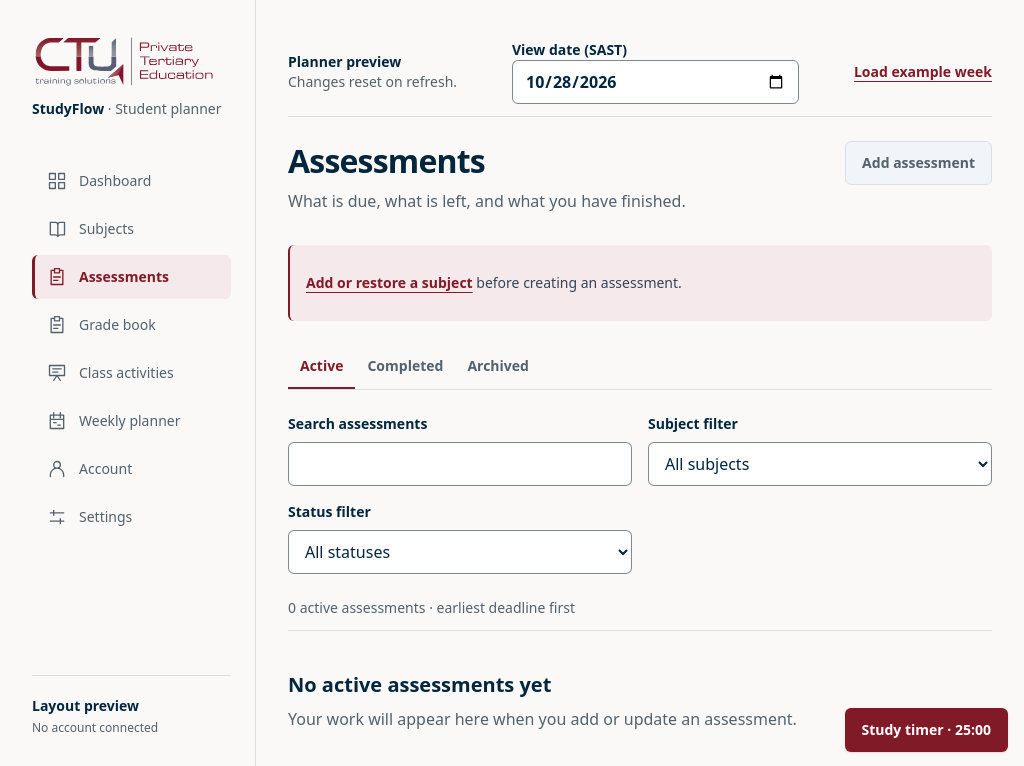
it: shared starter navigation › opens the linked assessment when planning time from the assessment list
Click the button "Load example week": {"x": 923, "y": 72} 854,50 -> 992,94
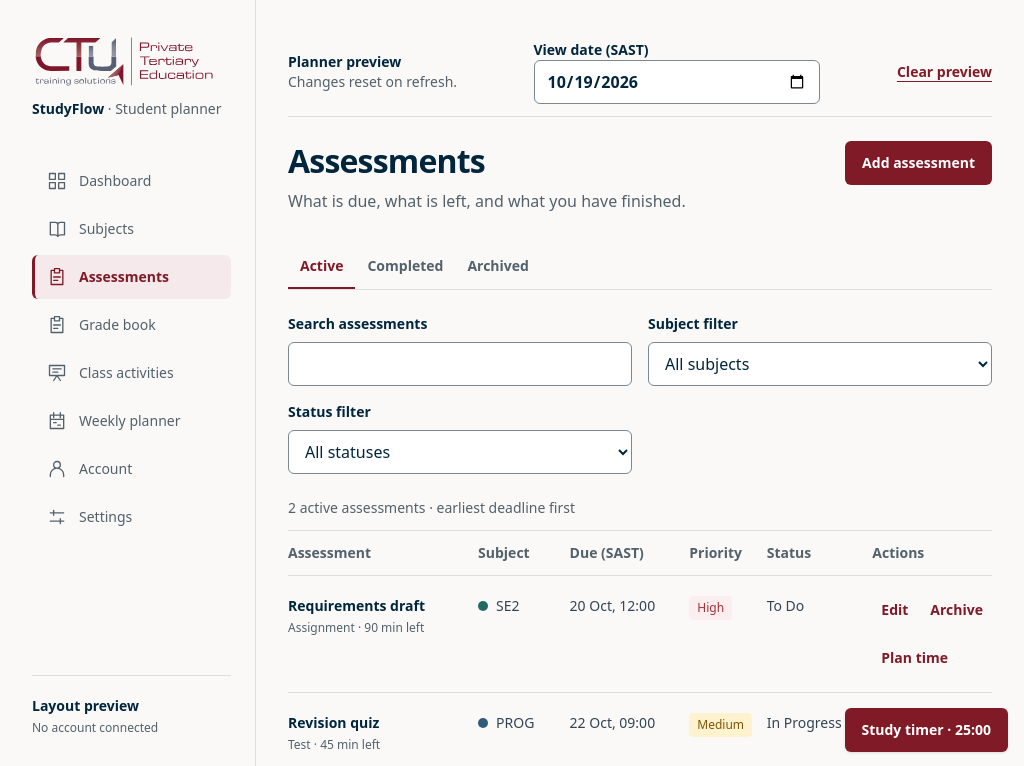
Click the link "Plan time" below "20 Oct, 12:00": {"x": 915, "y": 658} 881,648 -> 948,667
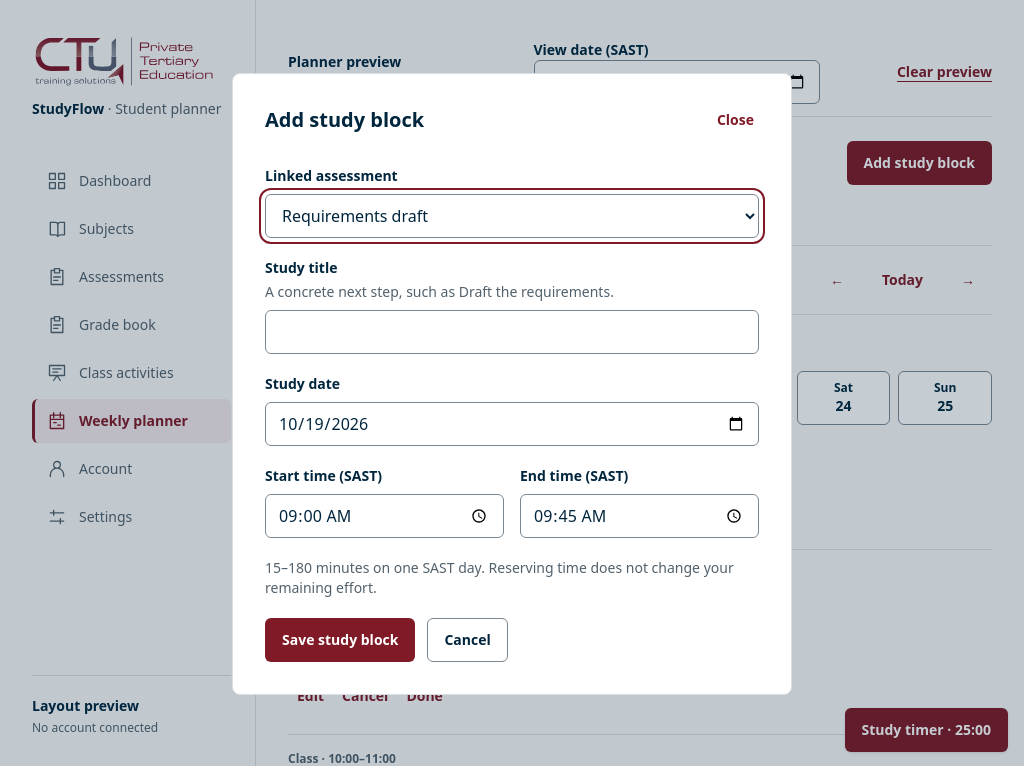
Check: the dialog "Add study block" is shown, box 232,73 -> 792,695
Check: the dropdown labelled "Linked assessment" shows "Requirements draft", box 265,194 -> 759,238
Click the button "Cancel": {"x": 468, "y": 640} 427,618 -> 508,662
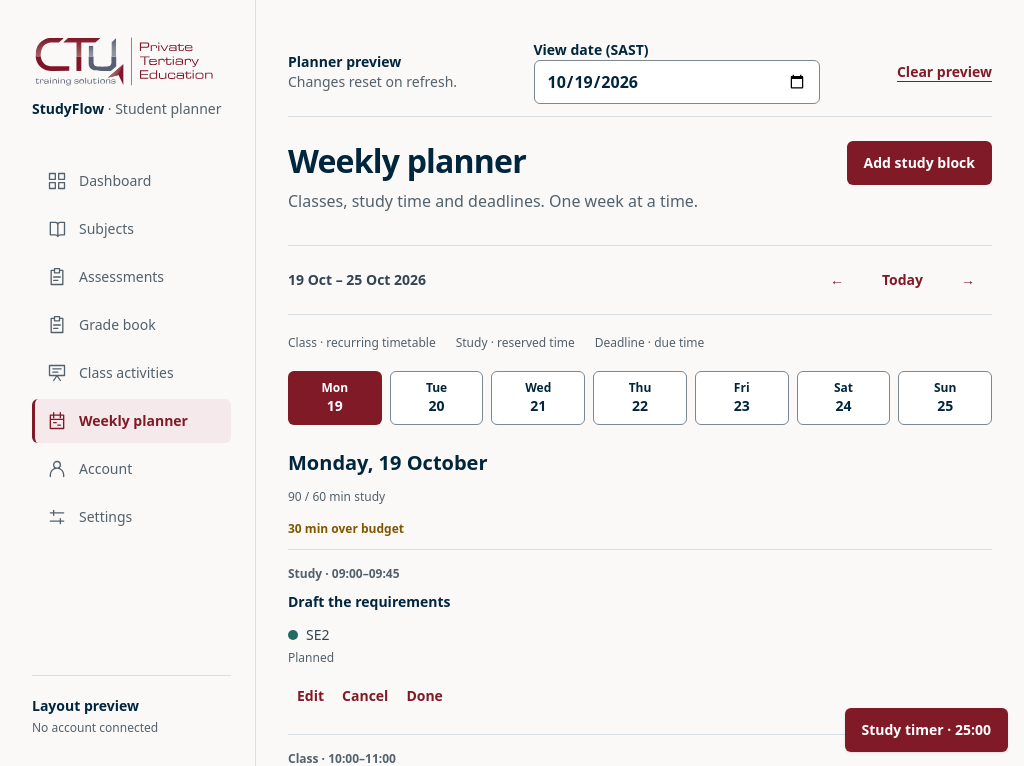
Check: the dialog is gone
